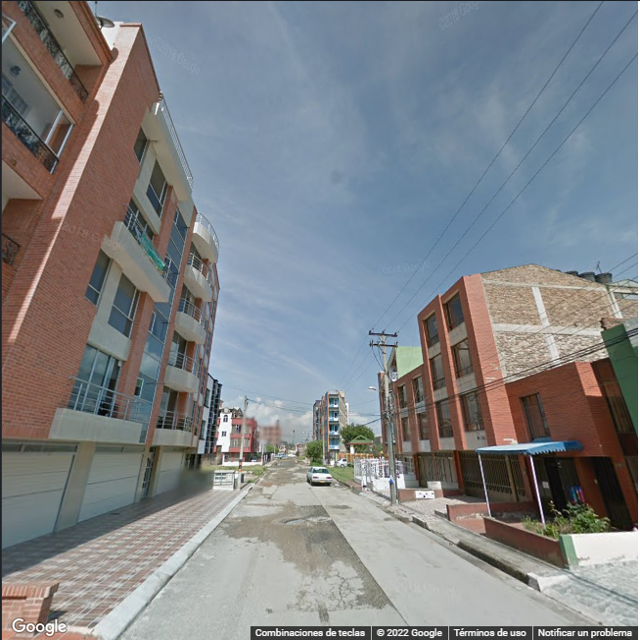D00: (339, 568, 351, 611)
